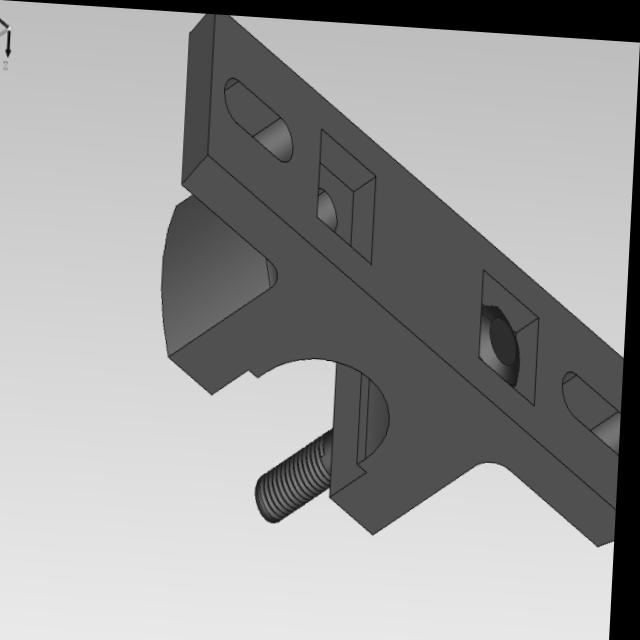screw: (259, 284, 535, 543)
